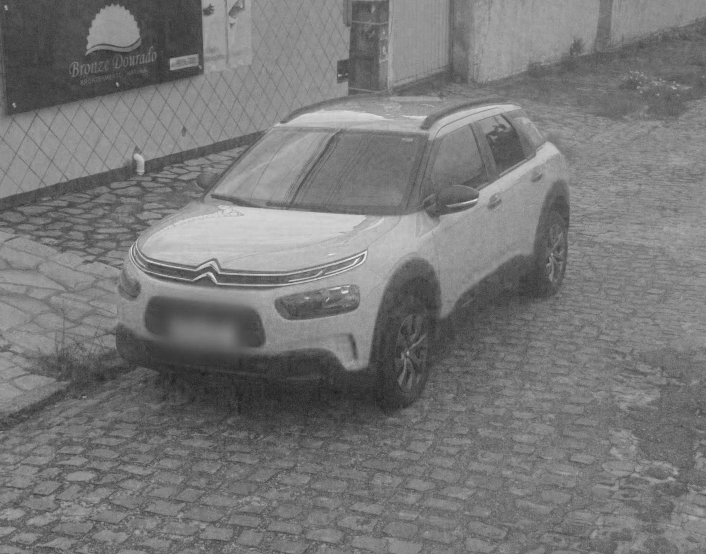car: (113, 91, 572, 411)
